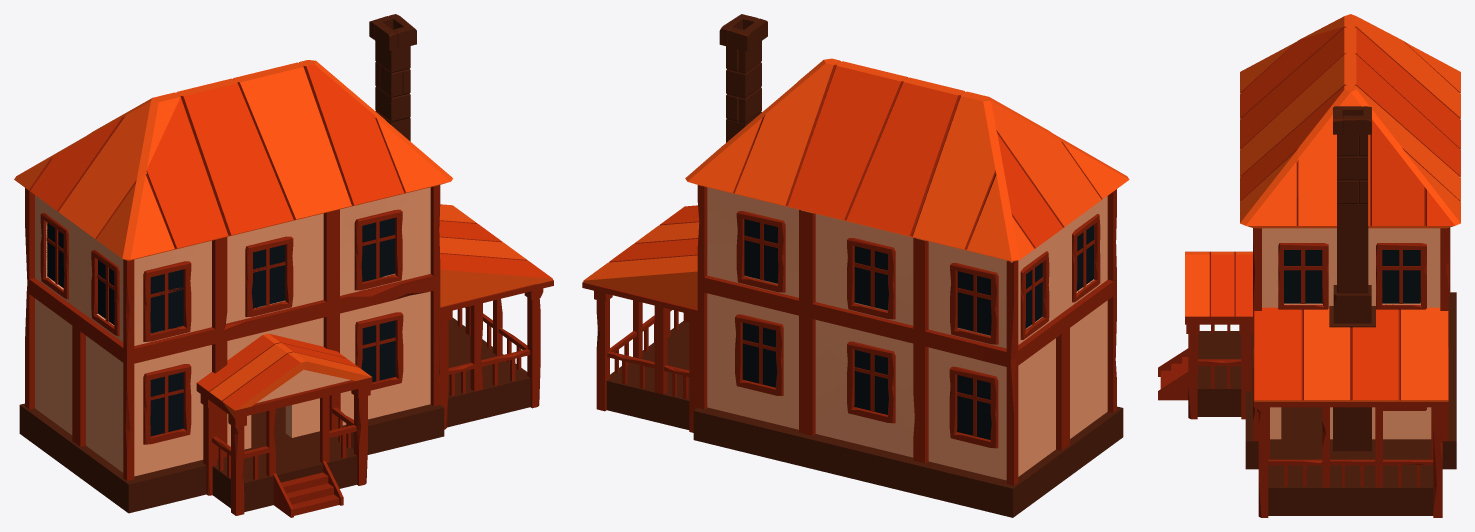
The model's file is House_2.fbx.
3 renders of one model, left to right at view 1: azimuth 30°, elevation 25°; view 2: azimuth 150°, elevation 25°; view 3: azimuth 270°, elevation 25°, orthographic. The views are drawn at different scales.
Visible parts, largest first — view 1: House_2; view 2: House_2; view 3: House_2.
Part boxes in pixels (<box>): House_2: <box>14,14,553,517</box>; House_2: <box>582,14,1129,517</box>; House_2: <box>1158,14,1460,517</box>.
Bounding box in the file's own units: 326 × 265 × 203.
